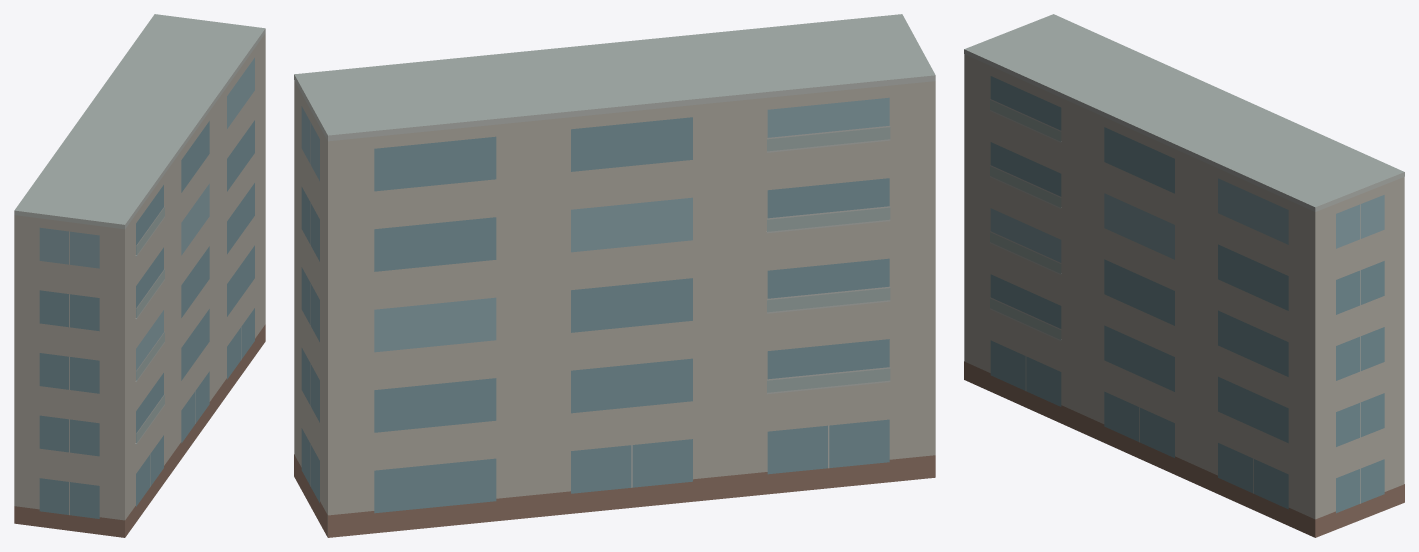
The model's file is survey-upis-32580756.glb.
The picture shows the model from 3 angles, left to right: view 1: azimuth 30°, elevation 25°; view 2: azimuth 150°, elevation 25°; view 3: azimuth 270°, elevation 25°; orthographic projection. The views are drawn at different scales.
Parts seen in each view (by area): view 1: survey-upis-32580756.tmp; view 2: survey-upis-32580756.tmp; view 3: survey-upis-32580756.tmp.
Part boxes in pixels (left/top/right/bottom): survey-upis-32580756.tmp: left=14, top=14, right=265, bottom=537; survey-upis-32580756.tmp: left=294, top=14, right=935, bottom=537; survey-upis-32580756.tmp: left=964, top=14, right=1404, bottom=537.
Size of the model in its own units: 21.33 by 17 by 20.54.
